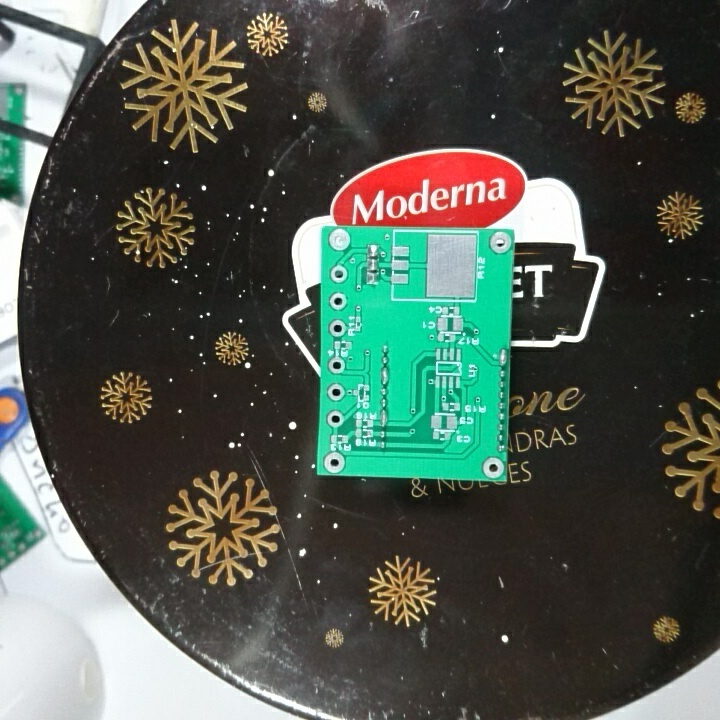F: (487, 229, 512, 257), (328, 227, 352, 253), (482, 455, 505, 481), (322, 449, 347, 472), (328, 288, 348, 312), (325, 355, 348, 375), (328, 318, 349, 339), (325, 382, 346, 403), (325, 407, 345, 429), (328, 263, 348, 284)
P: (496, 346, 509, 369), (378, 406, 391, 429), (379, 365, 391, 388)
